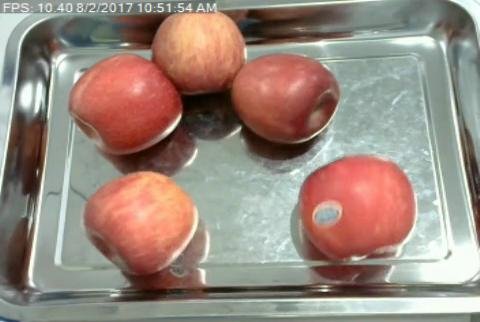apple: (299, 154, 416, 261), (83, 172, 199, 275), (70, 53, 181, 155), (234, 53, 339, 142), (153, 12, 242, 92)
